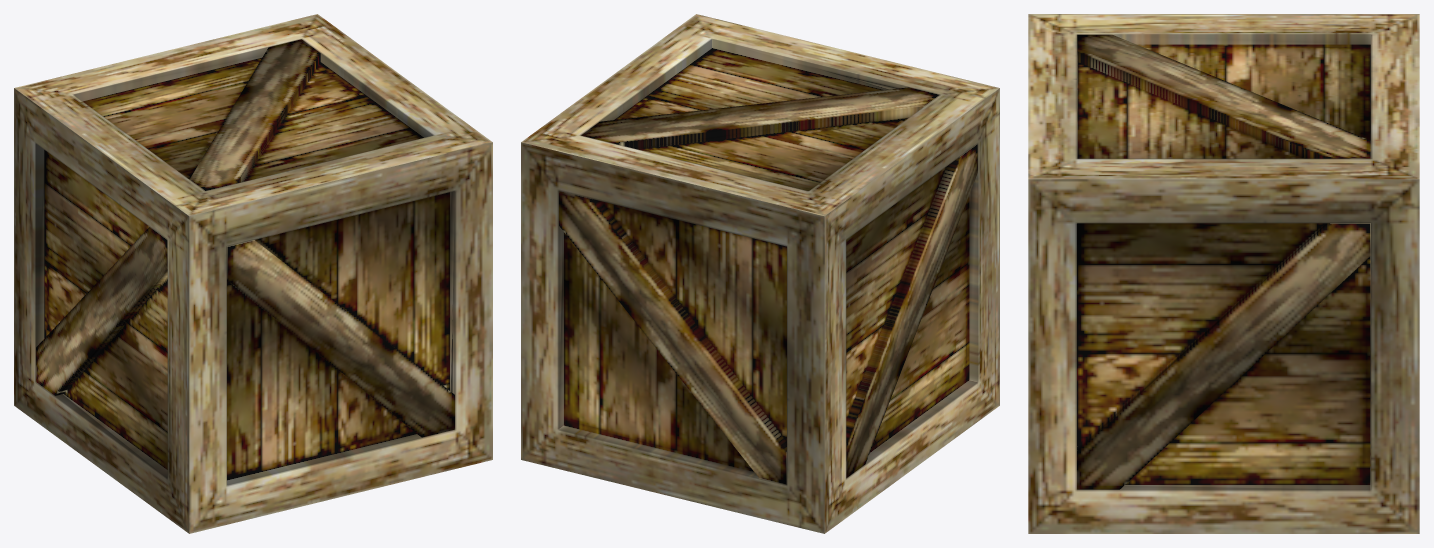
Rendered from game_asset_wooden_crate.glb.
3 renders of one model, left to right at view 1: azimuth 30°, elevation 25°; view 2: azimuth 150°, elevation 25°; view 3: azimuth 270°, elevation 25°, orthographic. The views are drawn at different scales.
Visible parts, largest first — view 1: Cube; view 2: Cube; view 3: Cube.
Part boxes in pixels (bbox=[...]): Cube: bbox=[14, 14, 492, 533]; Cube: bbox=[521, 14, 999, 533]; Cube: bbox=[1028, 14, 1419, 533].
Bounding box in the file's own units: 2 × 2 × 2.
Materials: 1 (1 with a texture image).
